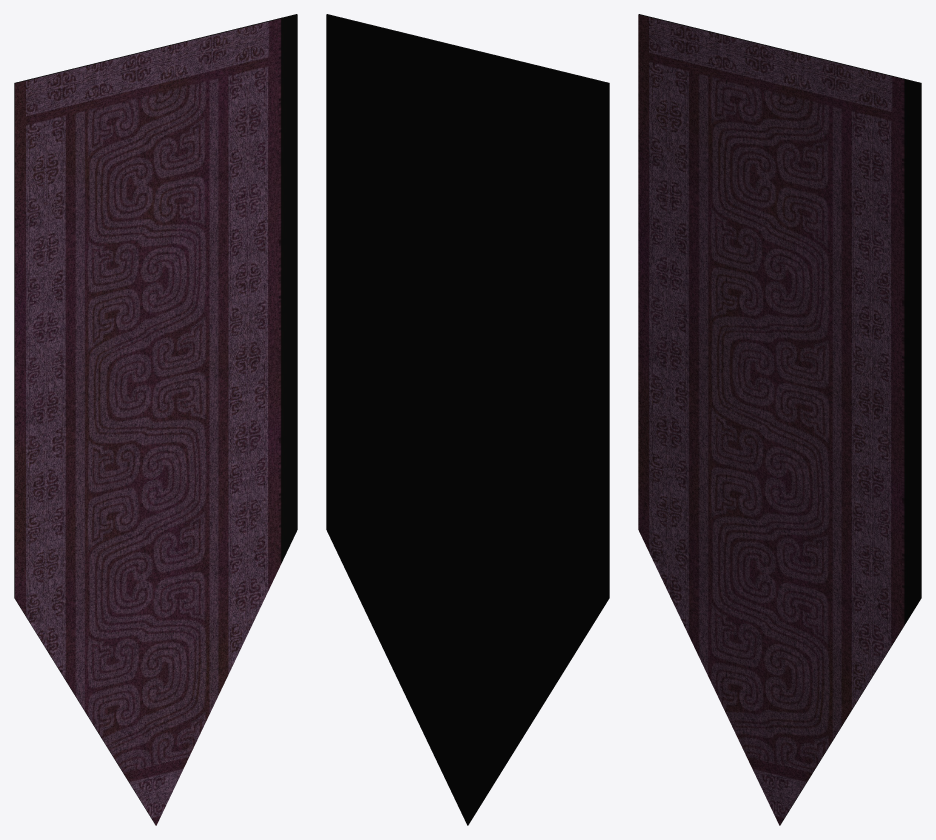
3 views of the same model, side by side, from view 1: azimuth 30°, elevation 25°; view 2: azimuth 150°, elevation 25°; view 3: azimuth 330°, elevation 25° (orthographic).
Parts seen in each view (by area): view 1: 平面.004_Baked; view 2: 平面.004_Baked; view 3: 平面.004_Baked.
Part boxes in pixels (<box>): 平面.004_Baked: <box>14,14,297,825</box>; 平面.004_Baked: <box>326,14,609,825</box>; 平面.004_Baked: <box>638,14,921,825</box>.
Size of the model in its own units: 98.72 by 259 by 0.4772.
